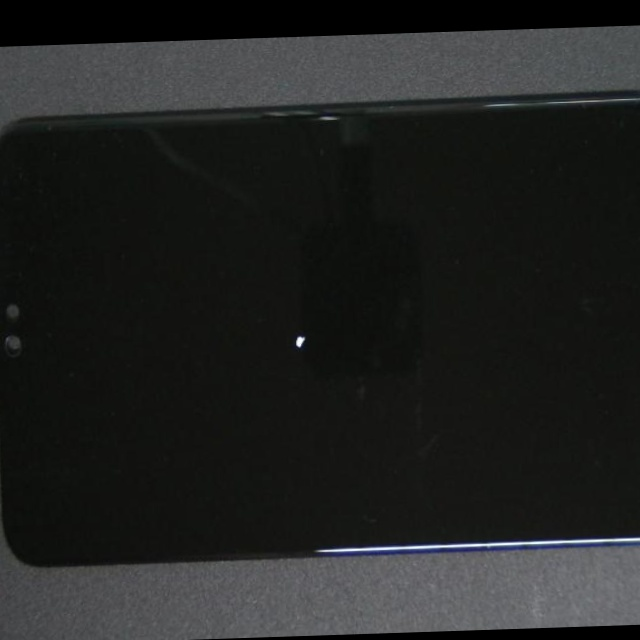stain: (131, 162, 463, 485)
